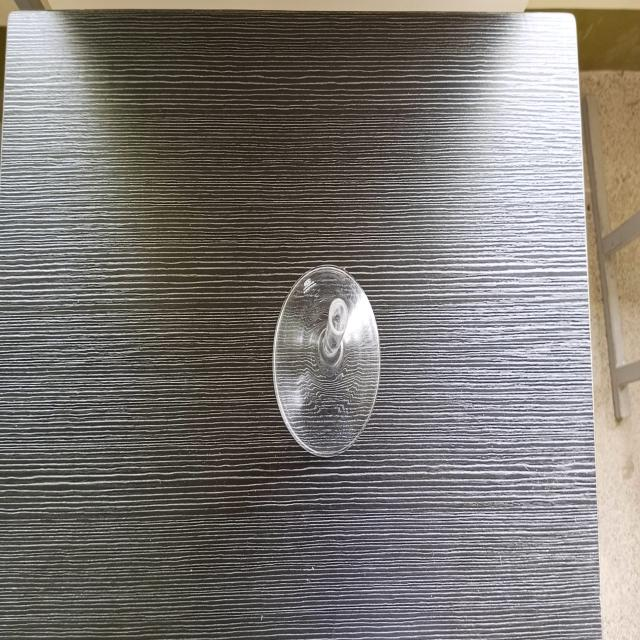funnel: (267, 257, 383, 463)
